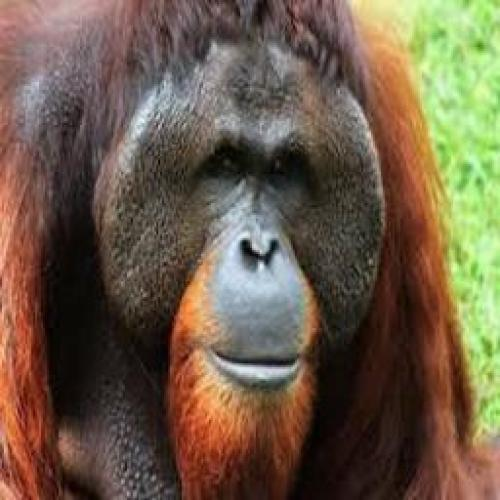orangutan-endangered: (2, 1, 446, 500)
